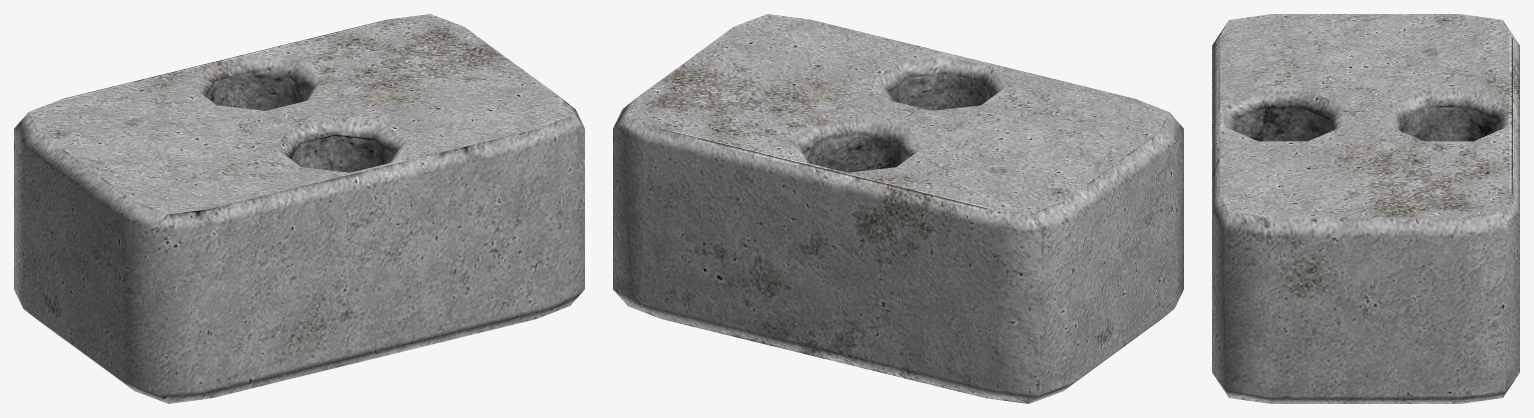
Rendered from SM_ConstructionFence_Cinder.fbx.
The picture shows the model from 3 angles, left to right: view 1: azimuth 30°, elevation 25°; view 2: azimuth 150°, elevation 25°; view 3: azimuth 270°, elevation 25°; orthographic projection. The views are drawn at different scales.
Parts seen in each view (by area): view 1: SM_ConstructionFence_Cinder_LOD0; view 2: SM_ConstructionFence_Cinder_LOD0; view 3: SM_ConstructionFence_Cinder_LOD0.
Part boxes in pixels (<box>): SM_ConstructionFence_Cinder_LOD0: <box>14,14,584,403</box>; SM_ConstructionFence_Cinder_LOD0: <box>613,14,1183,403</box>; SM_ConstructionFence_Cinder_LOD0: <box>1212,14,1519,403</box>.
Bounding box in the file's own units: 25 × 15 × 10.
